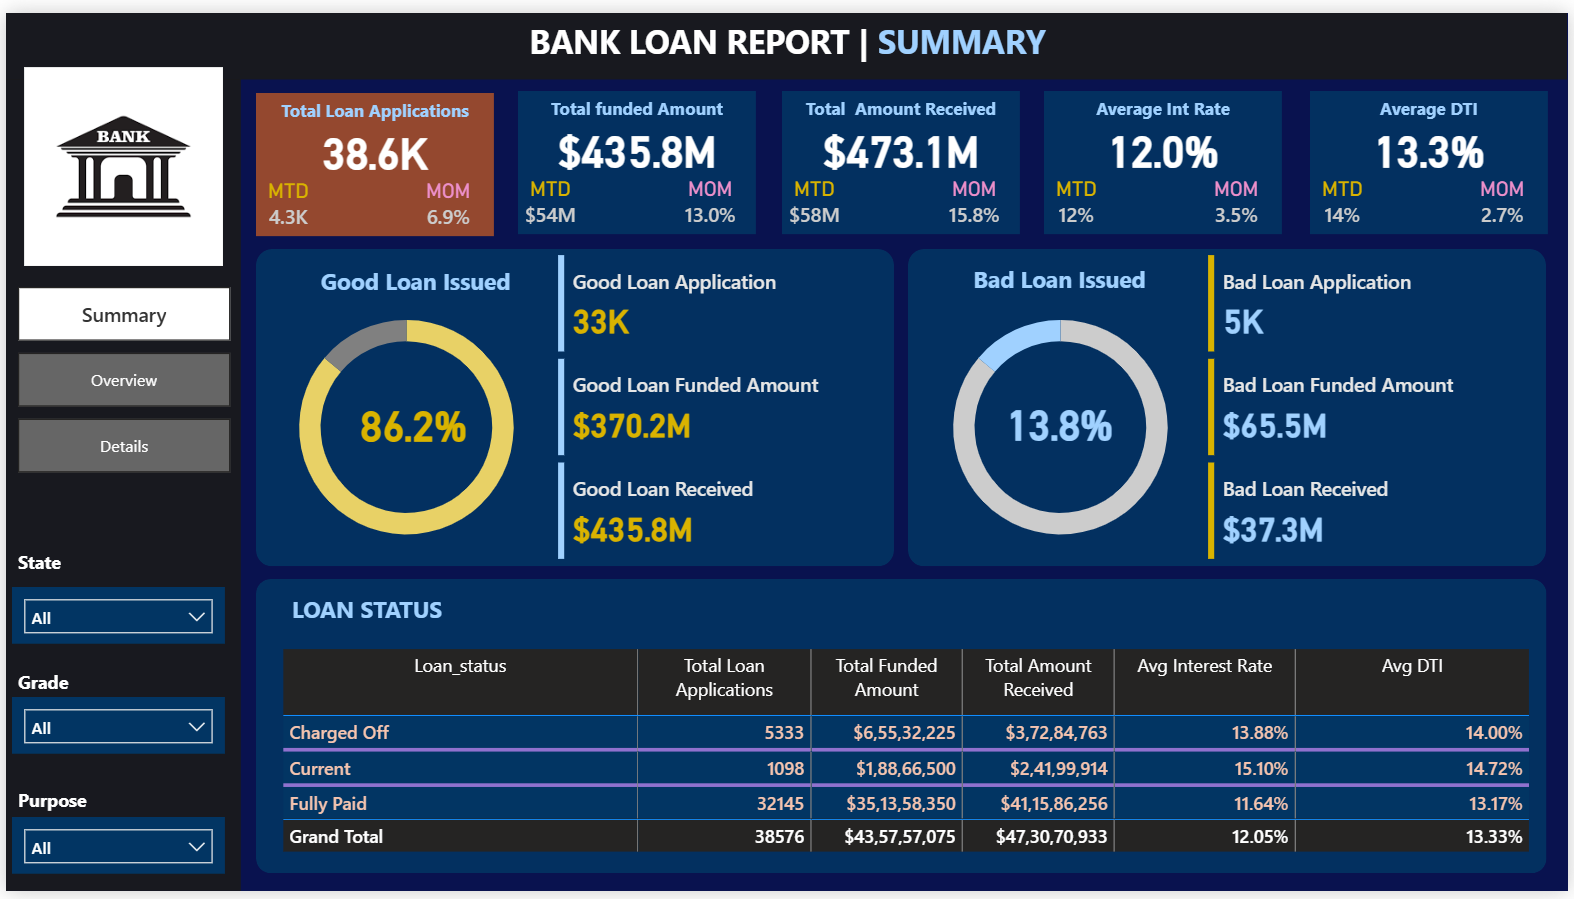

This screenshot's page, from the dashboard's own definition file:
{"tool":"powerbi","page":{"name":"Summary","canvas":[1280,720],"ordinal":0},"visuals":[{"type":"shape","box":[0,0,1279.6,54.6],"z":0},{"type":"shape","box":[420.1,64.3,195.1,117.3],"z":0,"group":"g2"},{"type":"shape","box":[636.6,64.3,195.1,117.3],"z":0,"group":"g1"},{"type":"shape","box":[851.6,64.3,195.1,117.3],"z":0,"group":"g6"},{"type":"shape","box":[1068.1,64.3,195.1,117.3],"z":0,"group":"g7"},{"type":"shape","box":[204.7,64.8,195.1,117.3],"z":0,"group":"g3"},{"type":"shape","box":[0,54,192.5,665.7],"z":1000},{"type":"card","fields":{"Values":["financial_loan.Total Funded Amount"]},"box":[420.4,86.7,195.1,47.5],"z":1000,"group":"g2"},{"type":"card","fields":{"Values":["financial_loan.Total Amount Received"]},"box":[636.6,86.7,195.1,47.5],"z":1000,"group":"g1"},{"type":"card","fields":{"Values":["financial_loan.Avg Interest Rate"]},"box":[851.6,86.7,195.1,47.5],"z":1000,"group":"g6"},{"type":"card","fields":{"Values":["financial_loan.Avg DTI"]},"box":[1068.1,86.7,195.1,47.5],"z":1000,"group":"g7"},{"type":"card","fields":{"Values":["financial_loan.Total Loan Applications"]},"box":[204.7,87.2,195.1,47.5],"z":1000,"group":"g3"},{"type":"textbox","box":[420.4,64.3,195.1,46.1],"z":2000,"group":"g2"},{"type":"textbox","box":[636.6,64.3,195.1,46.1],"z":2000,"group":"g1"},{"type":"textbox","box":[851.6,64.3,195.1,46.1],"z":2000,"group":"g6"},{"type":"textbox","box":[1068.1,64.3,195.1,46.1],"z":2000,"group":"g7"},{"type":"textbox","box":[204.7,64.8,195.1,46.1],"z":2000,"group":"g3"},{"type":"shape","box":[204.2,193.8,522.9,260.2],"z":2000},{"type":"card","title":"MTD","fields":{"Values":["financial_loan.MTD Funded Amount"]},"box":[420.4,134.2,52.7,47.5],"z":3000,"group":"g2"},{"type":"card","title":"MTD","fields":{"Values":["financial_loan.MTD Total Amount Received"]},"box":[636.6,134.2,52.7,47.5],"z":3000,"group":"g1"},{"type":"card","title":"MTD","fields":{"Values":["financial_loan.MTD Average Int Rate"]},"box":[851.6,134.2,52.7,47.5],"z":3000,"group":"g6"},{"type":"card","title":"MTD","fields":{"Values":["financial_loan.MTD Average DTI"]},"box":[1068.1,134.2,52.7,47.5],"z":3000,"group":"g7"},{"type":"card","title":"MTD","fields":{"Values":["financial_loan.MTD Loan Applications"]},"box":[204.7,134.7,52.7,47.5],"z":3000,"group":"g3"},{"type":"card","fields":{"Values":["financial_loan.Good loan %"]},"box":[236.7,312.7,195.8,46.8],"z":3000},{"type":"card","title":"MOM","fields":{"Values":["financial_loan.MOM Total Funded Amount"]},"box":[550.9,134.2,52.7,47.5],"z":4000,"group":"g2"},{"type":"card","title":"MOM","fields":{"Values":["financial_loan.MOM Total Amount Recieved"]},"box":[767.1,134.2,52.7,47.5],"z":4000,"group":"g1"},{"type":"card","title":"MOM","fields":{"Values":["financial_loan.MOM Average Int Rate"]},"box":[982.1,134.2,52.7,47.5],"z":4000,"group":"g6"},{"type":"card","title":"MOM","fields":{"Values":["financial_loan.MOM Average dti"]},"box":[1198.6,134.2,52.7,47.5],"z":4000,"group":"g7"},{"type":"card","title":"MOM","fields":{"Values":["financial_loan.MOM Loan Application"]},"box":[335.2,134.7,52.7,47.5],"z":4000,"group":"g3"},{"type":"textbox","box":[238.2,200.9,196.1,47],"z":4000},{"type":"textbox","box":[416.3,0,448.2,76.2],"z":5000},{"type":"group","id":"g1","title":"Group 3","box":[636.6,64.3,195.1,117.3],"z":5001,"group":"g5"},{"type":"group","id":"g2","title":"Group 2","box":[420.1,64.3,195.4,117.3],"z":5005,"group":"g4"},{"type":"group","id":"g3","title":"Group 1","box":[204.7,64.8,194.5,117.2],"z":6000},{"type":"group","id":"g4","title":"Group 1","box":[420.1,64.3,195.8,116.9],"z":7000},{"type":"group","id":"g5","title":"Group 2","box":[636.6,64.3,194.3,116.9],"z":8000},{"type":"group","id":"g6","title":"Group 3","box":[851.6,64.3,195.8,116.9],"z":9000},{"type":"group","id":"g7","title":"Group 3","box":[1068.1,64.3,194.3,118.4],"z":10000},{"type":"shape","box":[738.9,193.8,522.9,260.2],"z":11000},{"type":"donutChart","fields":{"Category":["financial_loan.Good loan VS Bad loan"],"Y":["financial_loan.Total Loan Applications"]},"box":[203.6,225.2,249.8,229.8],"z":12000},{"type":"cardVisual","fields":{"Data":["financial_loan.Good Loan Application","financial_loan.Good Loan Funded Amount","financial_loan.Good Loan Received"]},"box":[447.2,192.8,279.1,260.6],"z":13000},{"type":"donutChart","fields":{"Category":["financial_loan.Good loan VS Bad loan"],"Y":["financial_loan.Total Loan Applications"]},"box":[738.7,225.2,249.8,229.8],"z":14000},{"type":"textbox","box":[764.9,200.5,195.9,46.3],"z":15000},{"type":"card","fields":{"Values":["financial_loan.Bad loan %"]},"box":[764.9,311.5,195.9,47.8],"z":16000},{"type":"cardVisual","fields":{"Data":["financial_loan.Bad Loan Application","financial_loan.Bad Loan Funded Amount","financial_loan.Bad Loan Received"]},"box":[980.8,192.8,279.1,260.6],"z":17000},{"type":"shape","box":[204.7,464.1,1057.8,241.1],"z":18000},{"type":"tableEx","fields":{"Values":["financial_loan.loan_status","financial_loan.Total Loan Applications","financial_loan.Total Funded Amount","financial_loan.Total Amount Received","financial_loan.Avg Interest Rate","financial_loan.Avg DTI"]},"box":[220.5,516.6,1042.5,188.1],"z":19000},{"type":"textbox","box":[229.8,470.4,195.9,46.3],"z":20000},{"type":"slicer","fields":{"Values":["financial_loan.address_state"]},"box":[4.6,470.4,174.3,46.3],"z":21000},{"type":"textbox","box":[4.6,434.9,91,29.3],"z":22000},{"type":"slicer","fields":{"Values":["financial_loan.grade"]},"box":[4.6,561.3,174.3,46.3],"z":23000},{"type":"slicer","fields":{"Values":["financial_loan.purpose"]},"box":[4.6,658.5,174.3,46.3],"z":24000},{"type":"textbox","box":[4.6,532,91,29.3],"z":25000},{"type":"textbox","box":[4.6,629.2,91,29.3],"z":26000},{"type":"pageNavigator","box":[9.1,224.1,174,153.6],"z":27000},{"type":"image","box":[10.2,38.7,172.9,172.9],"z":28000}]}

Visuals, with their boxes in screenshot pixels (x1, y1, x2, y2), scaled from the page's 1280x720 canvas onto the 1574x899 screenshot:
shape: [left=0, top=0, right=1573, bottom=68]
shape: [left=517, top=80, right=757, bottom=227]
shape: [left=783, top=80, right=1023, bottom=227]
shape: [left=1047, top=80, right=1287, bottom=227]
shape: [left=1313, top=80, right=1553, bottom=227]
shape: [left=252, top=81, right=492, bottom=227]
shape: [left=0, top=67, right=237, bottom=898]
card - financial_loan.Total Funded Amount: [left=517, top=108, right=757, bottom=168]
card - financial_loan.Total Amount Received: [left=783, top=108, right=1023, bottom=168]
card - financial_loan.Avg Interest Rate: [left=1047, top=108, right=1287, bottom=168]
card - financial_loan.Avg DTI: [left=1313, top=108, right=1553, bottom=168]
card - financial_loan.Total Loan Applications: [left=252, top=109, right=492, bottom=168]
textbox: [left=517, top=80, right=757, bottom=138]
textbox: [left=783, top=80, right=1023, bottom=138]
textbox: [left=1047, top=80, right=1287, bottom=138]
textbox: [left=1313, top=80, right=1553, bottom=138]
textbox: [left=252, top=81, right=492, bottom=138]
shape: [left=251, top=242, right=894, bottom=567]
"MTD" card: [left=517, top=168, right=582, bottom=227]
"MTD" card: [left=783, top=168, right=848, bottom=227]
"MTD" card: [left=1047, top=168, right=1112, bottom=227]
"MTD" card: [left=1313, top=168, right=1378, bottom=227]
"MTD" card: [left=252, top=168, right=317, bottom=227]
card - financial_loan.Good loan %: [left=291, top=390, right=532, bottom=449]
"MOM" card: [left=677, top=168, right=742, bottom=227]
"MOM" card: [left=943, top=168, right=1008, bottom=227]
"MOM" card: [left=1208, top=168, right=1272, bottom=227]
"MOM" card: [left=1474, top=168, right=1539, bottom=227]
"MOM" card: [left=412, top=168, right=477, bottom=227]
textbox: [left=293, top=251, right=534, bottom=310]
textbox: [left=512, top=0, right=1063, bottom=95]
"Group 3" group: [left=783, top=80, right=1023, bottom=227]
"Group 2" group: [left=517, top=80, right=757, bottom=227]
"Group 1" group: [left=252, top=81, right=491, bottom=227]
"Group 1" group: [left=517, top=80, right=757, bottom=226]
"Group 2" group: [left=783, top=80, right=1022, bottom=226]
"Group 3" group: [left=1047, top=80, right=1288, bottom=226]
"Group 3" group: [left=1313, top=80, right=1552, bottom=228]
shape: [left=909, top=242, right=1552, bottom=567]
donutChart - financial_loan.Good loan VS Bad loan x financial_loan.Total Loan Applications: [left=250, top=281, right=558, bottom=568]
cardVisual - financial_loan.Good Loan Application x financial_loan.Good Loan Funded Amount: [left=550, top=241, right=893, bottom=566]
donutChart - financial_loan.Good loan VS Bad loan x financial_loan.Total Loan Applications: [left=908, top=281, right=1216, bottom=568]
textbox: [left=941, top=250, right=1181, bottom=308]
card - financial_loan.Bad loan %: [left=941, top=389, right=1181, bottom=449]
cardVisual - financial_loan.Bad Loan Application x financial_loan.Bad Loan Funded Amount: [left=1206, top=241, right=1549, bottom=566]
shape: [left=252, top=579, right=1552, bottom=881]
tableEx - financial_loan.loan_status x financial_loan.Total Loan Applications: [left=271, top=645, right=1553, bottom=880]
textbox: [left=283, top=587, right=523, bottom=645]
slicer - financial_loan.address_state: [left=6, top=587, right=220, bottom=645]
textbox: [left=6, top=543, right=118, bottom=580]
slicer - financial_loan.grade: [left=6, top=701, right=220, bottom=759]
slicer - financial_loan.purpose: [left=6, top=822, right=220, bottom=880]
textbox: [left=6, top=664, right=118, bottom=701]
textbox: [left=6, top=786, right=118, bottom=822]
pageNavigator: [left=11, top=280, right=225, bottom=472]
image: [left=13, top=48, right=225, bottom=264]
